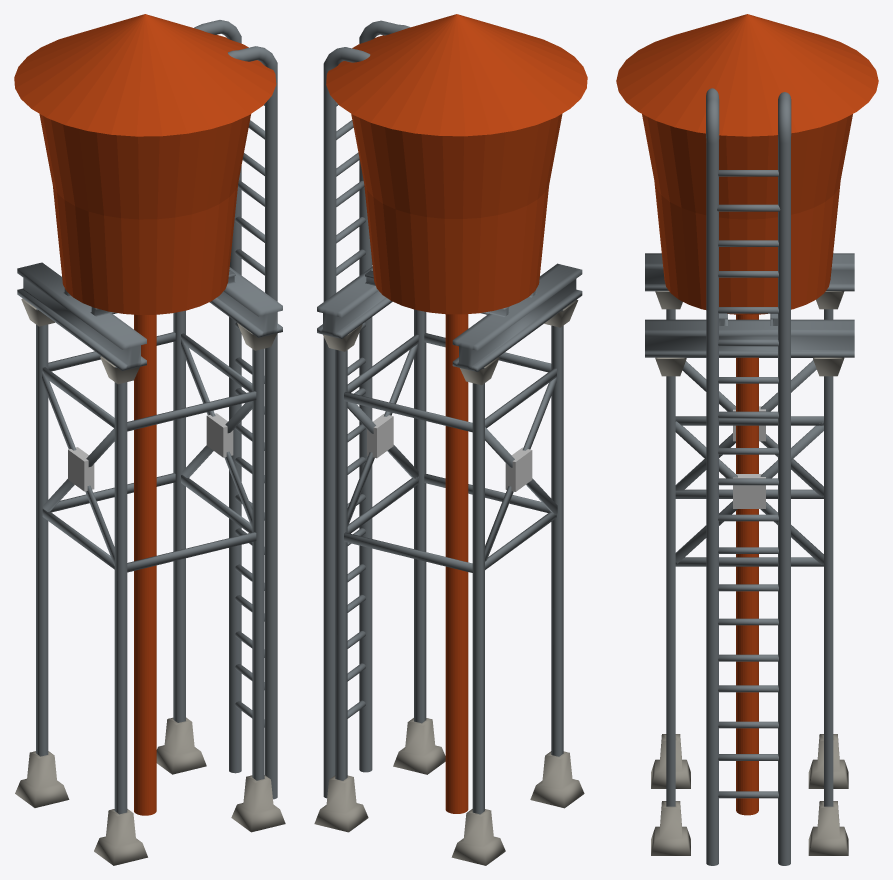
Rendered from SaltSilo.fbx.
The picture shows the model from 3 angles, left to right: view 1: azimuth 30°, elevation 25°; view 2: azimuth 150°, elevation 25°; view 3: azimuth 270°, elevation 25°; orthographic projection.
Parts seen in each view (by area): view 1: Cylinder.006; view 2: Cylinder.006; view 3: Cylinder.006.
Part boxes in pixels (x1=…): Cylinder.006: x1=14, y1=14, x2=285, y2=865; Cylinder.006: x1=314, y1=14, x2=587, y2=865; Cylinder.006: x1=616, y1=14, x2=878, y2=865.
Bounding box in the file's own units: 4287 × 14324 × 4277.
